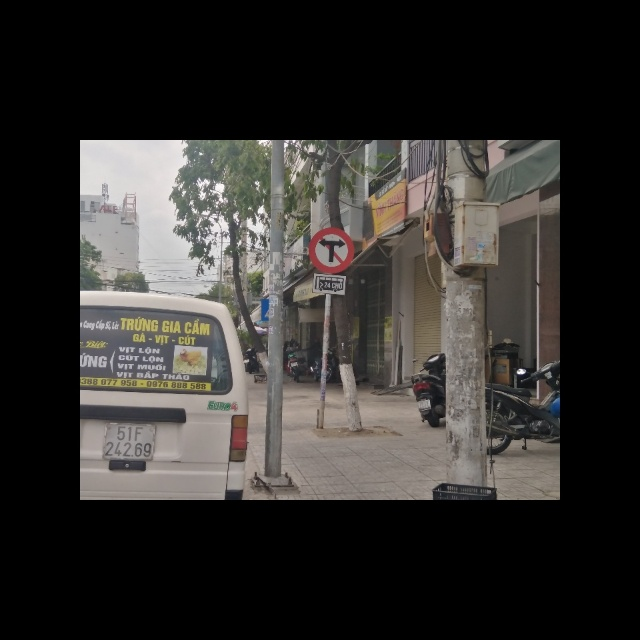Cấm rẽ trái và rẽ phải: (309, 227, 355, 274)
